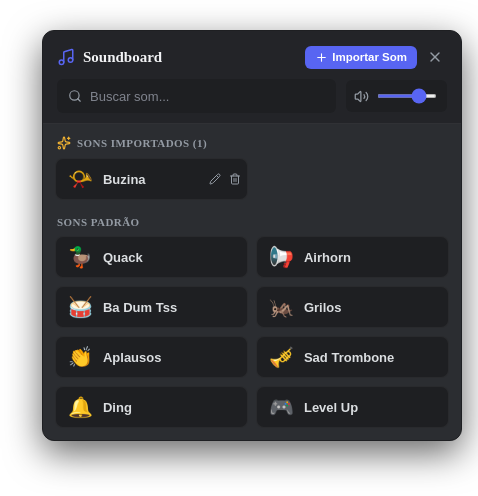
Test: SoundboardPopover - Importar e Excluir Sons › desabilita todos os botões de som enquanto um som está tocando e impede cliques simultâneos
Later steps or results of the test are not shown.
Check: the button with test id "soundboard-play-server-101" is enabled, box [55, 158, 248, 200]
// Clica para tocar Quack
Click the button with test id "soundboard-play-default-def_quack": [152, 257] box [55, 236, 248, 278]
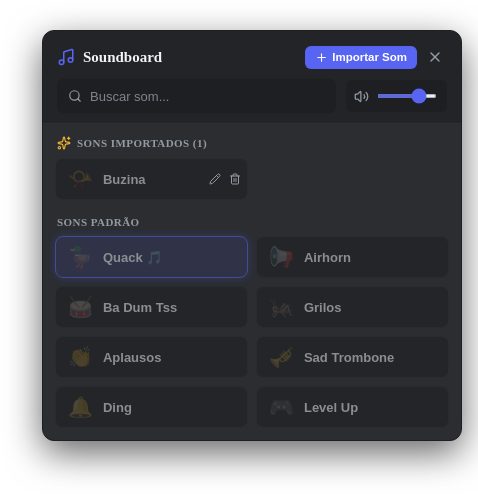
Check: the button with test id "soundboard-play-default-def_quack" is disabled, box [55, 236, 248, 278]
Check: the button with test id "soundboard-play-server-101" is disabled, box [55, 158, 248, 200]
